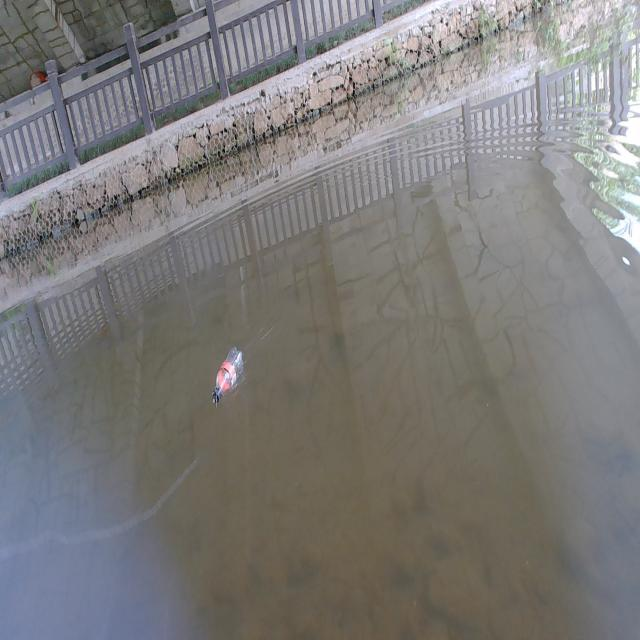bottle: (204, 344, 254, 406)
